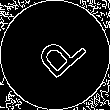P_SW: (24, 25, 86, 85)
